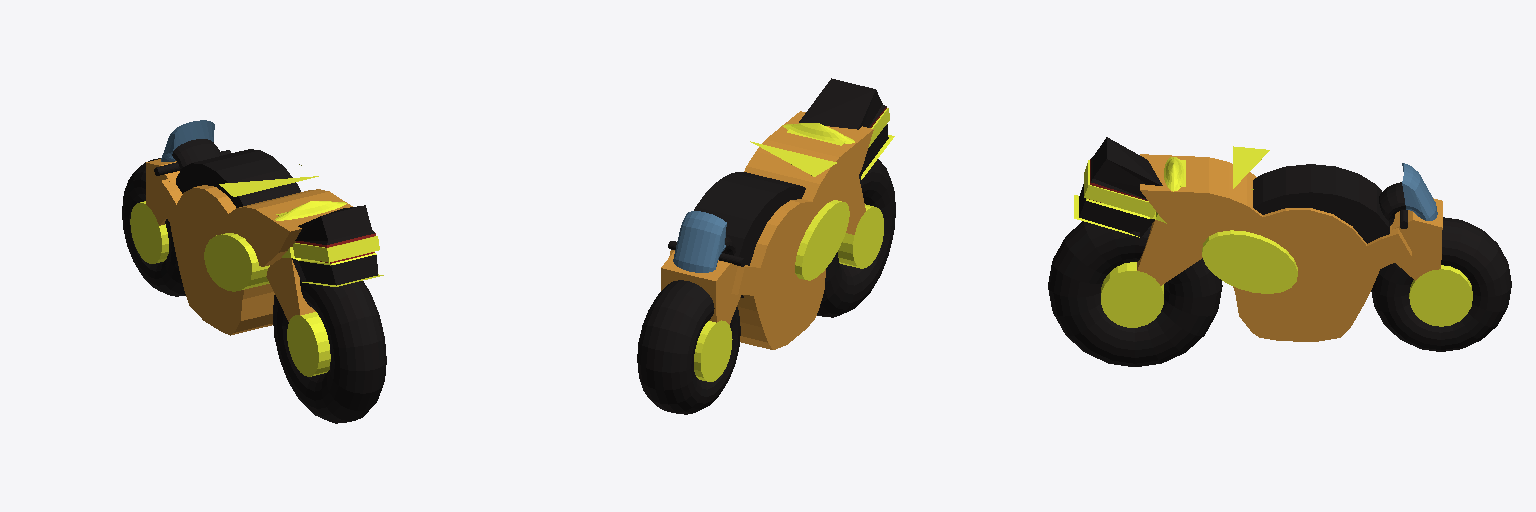
The model's file is KK_Motorrad.obj.
3 views of the same model, side by side, from view 1: azimuth 30°, elevation 25°; view 2: azimuth 150°, elevation 25°; view 3: azimuth 270°, elevation 25° (orthographic).
Parts seen in each view (by area): view 1: pCylinder6, Motorrad pTorus4, pCylinder2 Motorrad, pCylinder3, Motorrad pCylinder1, pCylinder5, Motorrad pTorus3, pTorus5, pCone1; view 2: pCylinder6, Motorrad pTorus3, pCylinder2 Motorrad, Motorrad pCylinder1, pCylinder3, Motorrad pTorus4, pTorus5, pCylinder5, pCone1; view 3: pCylinder6, Motorrad pTorus4, pCylinder2 Motorrad, Motorrad pTorus3, pCylinder3, Motorrad pCylinder1, pCylinder5, pTorus5, pCone1.
Part boxes in pixels (x1,y1,x2,y2): pCylinder6: (154,179,352,335); Motorrad pTorus4: (273,280,386,423); pCylinder2 Motorrad: (266,205,383,376); pCylinder3: (176,149,300,207); Motorrad pCylinder1: (130,159,318,263); pCylinder5: (204,233,269,291); Motorrad pTorus3: (122,158,185,296); pTorus5: (161,120,221,168); pCone1: (275,201,346,220); pCylinder6: (669,111,873,349); Motorrad pTorus3: (637,280,740,414); pCylinder2 Motorrad: (787,78,894,268); Motorrad pCylinder1: (661,141,836,381); pCylinder3: (694,172,805,297); Motorrad pTorus4: (817,159,895,317); pTorus5: (673,211,735,272); pCylinder5: (795,200,849,280); pCone1: (782,123,854,143); pCylinder6: (1140,154,1411,341); Motorrad pTorus4: (1048,221,1222,366); pCylinder2 Motorrad: (1074,137,1202,327); Motorrad pTorus3: (1371,217,1511,351); pCylinder3: (1253,164,1389,243); Motorrad pCylinder1: (1233,146,1472,326); pCylinder5: (1202,230,1297,293); pTorus5: (1379,163,1437,225); pCone1: (1164,157,1183,191).
Bounding box in the file's own units: 1.1 × 2.48 × 4.8.